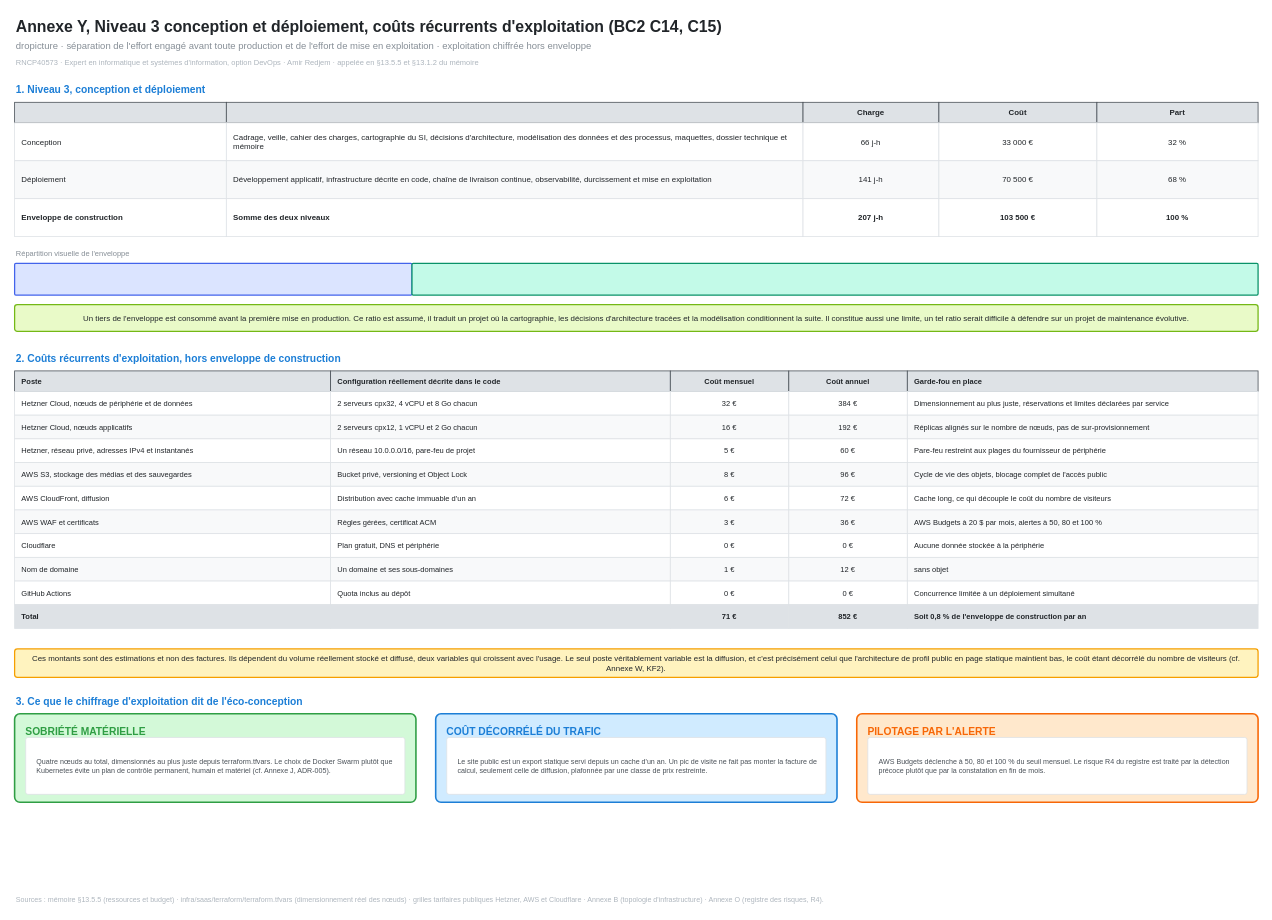
This 1272x920 diagram has some shape labels left out. Each missing label, with the centre of its shape:
"Conception · 66 j-h · 33 000 € · 32 %" goes at point 213,278.
"Contenu" goes at point 514,112.
"Déploiement · 141 j-h · 70 500 € · 68 %" goes at point 834,278.
"Niveau d'estimation" goes at point 120,112.
